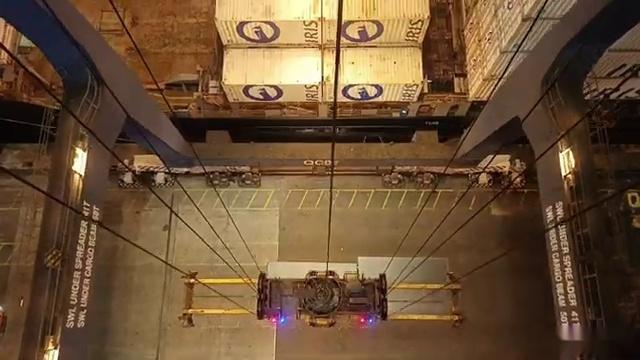container: (221, 48, 425, 107)
guide_mark: (108, 189, 540, 213), (61, 343, 561, 360)
spreader: (176, 267, 471, 331)
